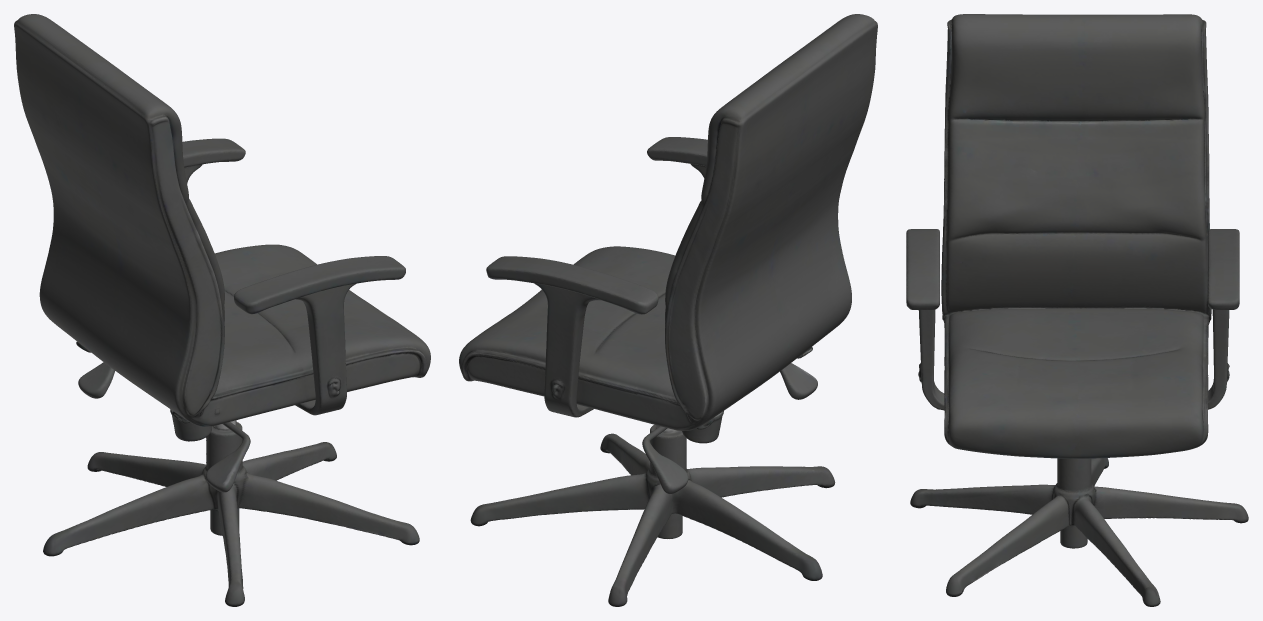
The model's file is modern_office_chair_padded_22.glb.
The picture shows the model from 3 angles, left to right: view 1: azimuth 30°, elevation 25°; view 2: azimuth 150°, elevation 25°; view 3: azimuth 270°, elevation 25°; orthographic projection. The views are drawn at different scales.
Visible parts, largest first — view 1: tripo_node_9dcb0521-9231-4d42-ae7d-159c8cbd2f48; view 2: tripo_node_9dcb0521-9231-4d42-ae7d-159c8cbd2f48; view 3: tripo_node_9dcb0521-9231-4d42-ae7d-159c8cbd2f48.
Part boxes in pixels (box(x1,y1,x2,y2)): tripo_node_9dcb0521-9231-4d42-ae7d-159c8cbd2f48: box(14, 14, 430, 606); tripo_node_9dcb0521-9231-4d42-ae7d-159c8cbd2f48: box(459, 14, 877, 606); tripo_node_9dcb0521-9231-4d42-ae7d-159c8cbd2f48: box(906, 14, 1248, 606).
Bounding box in the file's own units: 0.6658 × 1 × 0.6631.
Materials: 1 (1 with a texture image).
